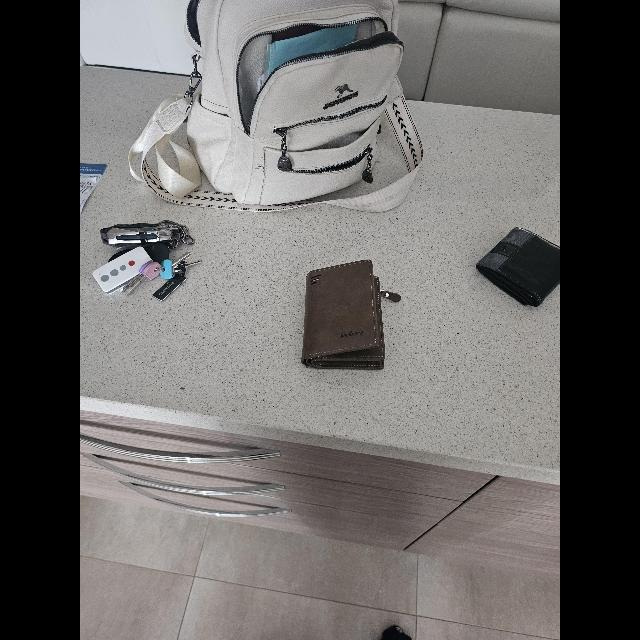Wallet: (301, 260, 391, 370), (474, 228, 558, 308)
